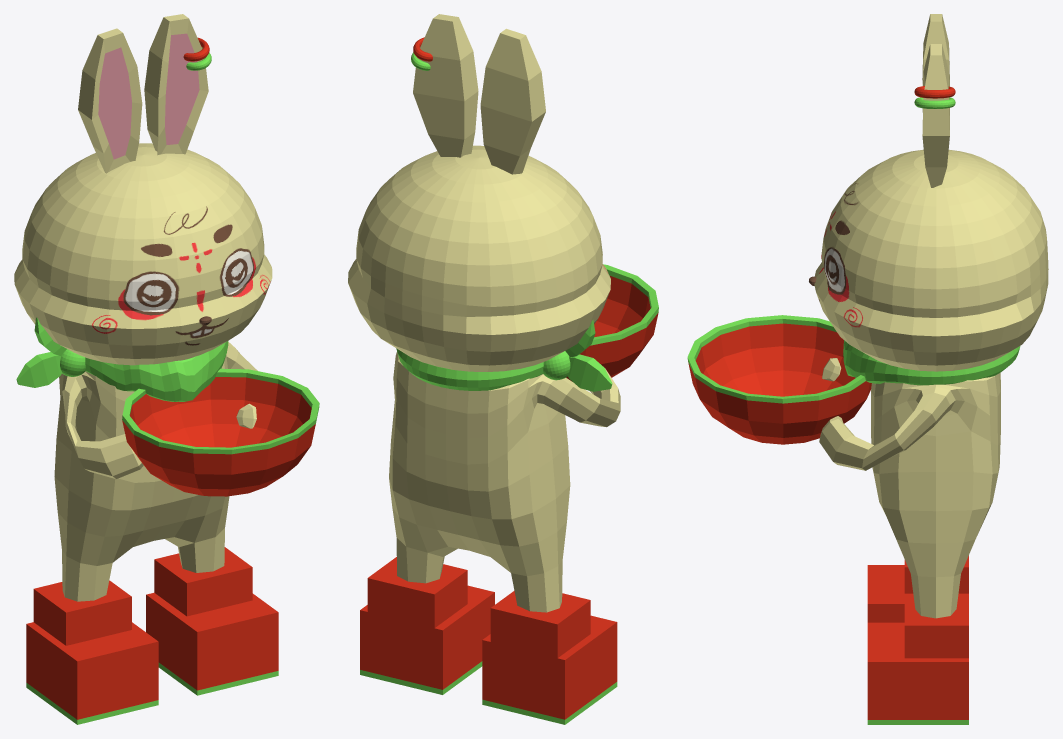
Rendered from Haru Listo.glb.
3 renders of one model, left to right at view 1: azimuth 30°, elevation 25°; view 2: azimuth 150°, elevation 25°; view 3: azimuth 270°, elevation 25°, orthographic. The views are drawn at different scales.
Parts seen in each view (by area): view 1: Cabeza Haru, Botas Haru, Cuerpo Haru, Tazon, Orejas Haru, Pañuelo, Moño, Pendientes; view 2: Cabeza Haru, Cuerpo Haru, Botas Haru, Orejas Haru, Tazon, Pañuelo, Moño; view 3: Cabeza Haru, Cuerpo Haru, Tazon, Botas Haru, Orejas Haru, Pañuelo, Pendientes.
Boxes of the visible parts, x1,y1,x2,y2 form: Cabeza Haru: [14, 143, 272, 365]; Botas Haru: [26, 547, 278, 724]; Cuerpo Haru: [54, 342, 257, 601]; Tazon: [122, 368, 319, 496]; Orejas Haru: [78, 14, 208, 173]; Pañuelo: [85, 341, 228, 401]; Moño: [16, 317, 85, 387]; Pendientes: [183, 37, 211, 70]; Cabeza Haru: [348, 145, 610, 371]; Cuerpo Haru: [389, 352, 620, 612]; Botas Haru: [360, 557, 617, 724]; Orejas Haru: [413, 14, 545, 174]; Tazon: [566, 264, 658, 381]; Pañuelo: [396, 348, 543, 390]; Moño: [543, 319, 612, 391]; Cabeza Haru: [814, 149, 1048, 371]; Cuerpo Haru: [819, 358, 1000, 618]; Tazon: [687, 315, 871, 444]; Botas Haru: [867, 555, 968, 724]; Orejas Haru: [922, 14, 949, 187]; Pañuelo: [843, 340, 1020, 385]; Pendientes: [914, 86, 955, 108].
Bounding box in the file's own units: 2.42 × 6.22 × 3.16.
Materials: 6 (1 with a texture image).
